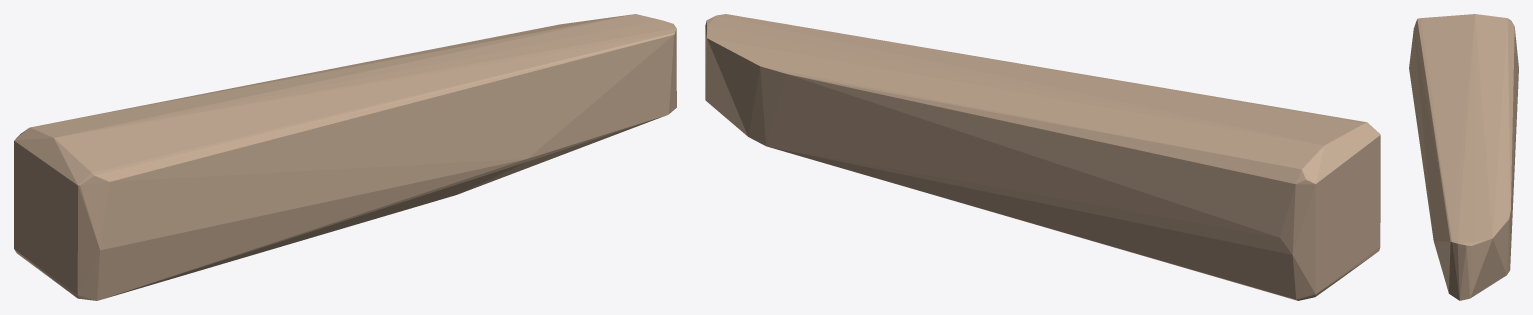
The model's file is suspension_strut_assembly_b02.glb.
The picture shows the model from 3 angles, left to right: view 1: azimuth 30°, elevation 25°; view 2: azimuth 150°, elevation 25°; view 3: azimuth 270°, elevation 25°; orthographic projection. The views are drawn at different scales.
Visible parts, largest first — view 1: geometry_0; view 2: geometry_0; view 3: geometry_0.
Part boxes in pixels (left/top/right/bottom): geometry_0: left=14, top=14, right=676, bottom=300; geometry_0: left=705, top=14, right=1380, bottom=300; geometry_0: left=1409, top=14, right=1518, bottom=300.
Size of the model in its own units: 0.48 by 0.1036 by 0.1037.
